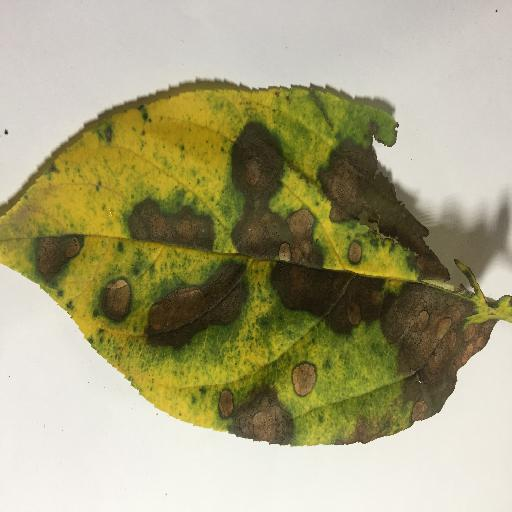Brown_Spot: (390, 291, 497, 399), (145, 270, 245, 341), (238, 122, 283, 256), (273, 269, 379, 325), (214, 387, 286, 447), (129, 206, 208, 249), (31, 235, 75, 273), (293, 211, 314, 267), (290, 363, 317, 400), (106, 284, 129, 319), (344, 244, 361, 267)
